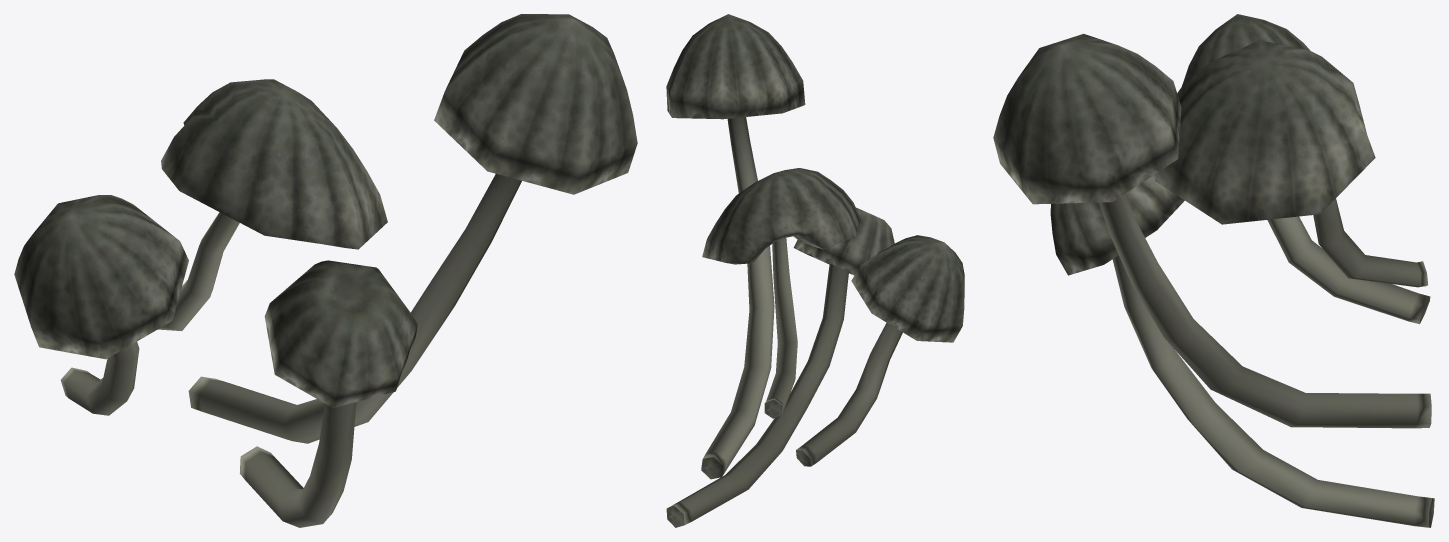
The model's file is cave_mushrooms_04.dae.
3 renders of one model, left to right at view 1: azimuth 30°, elevation 25°; view 2: azimuth 150°, elevation 25°; view 3: azimuth 270°, elevation 25°, orthographic. The views are drawn at different scales.
Parts seen in each view (by area): view 1: bunch_4; view 2: bunch_4; view 3: bunch_4.
Boxes of the visible parts, x1,y1,x2,y2 form: bunch_4: (14, 14, 637, 527); bunch_4: (666, 14, 964, 527); bunch_4: (993, 14, 1434, 527).
Bounding box in the file's own units: 0.3475 × 0.3743 × 0.2788.
